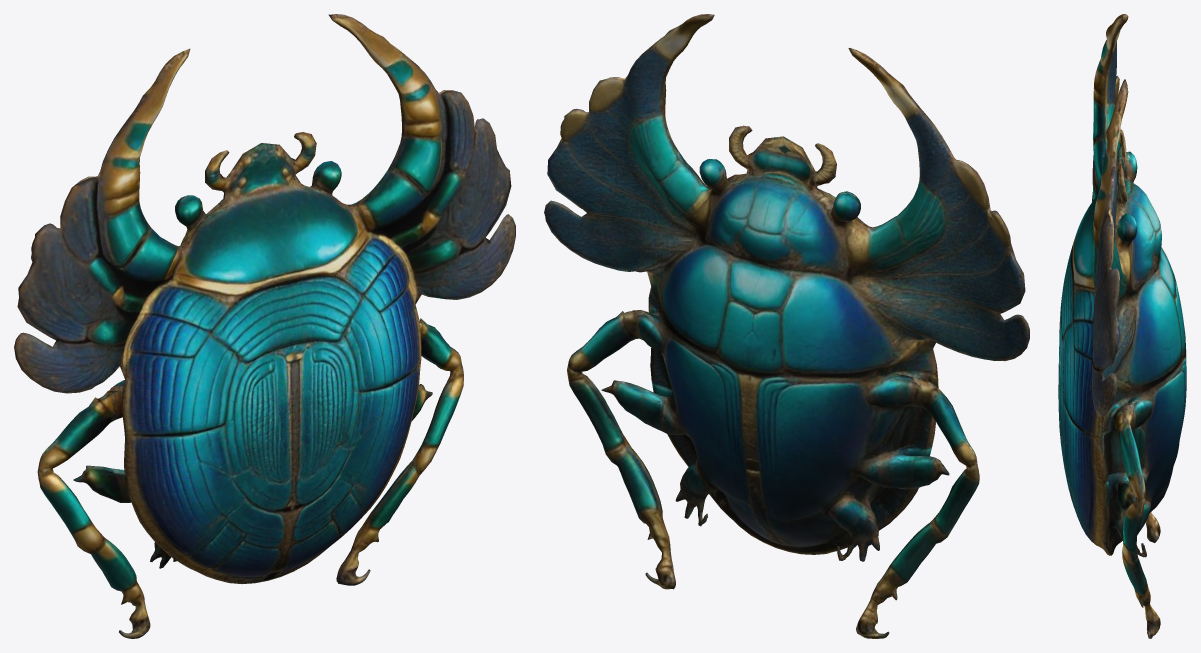
Rendered from Meshy_AI_Egyptian_Scarab_0310040509_texture.glb.
3 views of the same model, side by side, from view 1: azimuth 30°, elevation 25°; view 2: azimuth 150°, elevation 25°; view 3: azimuth 270°, elevation 25° (orthographic). The views are drawn at different scales.
Bounding box in the file's own units: 1.77 × 1.99 × 0.4278.
1 material, 1 textured.
